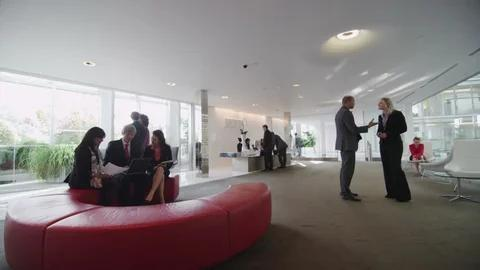jacket: (62, 143, 104, 188), (335, 107, 369, 152), (104, 139, 142, 173), (144, 143, 175, 177), (378, 110, 407, 142), (273, 134, 288, 150), (263, 130, 273, 150)
trousers: (379, 140, 412, 199), (113, 172, 146, 205), (339, 149, 356, 192), (264, 148, 274, 168), (279, 147, 287, 166)
